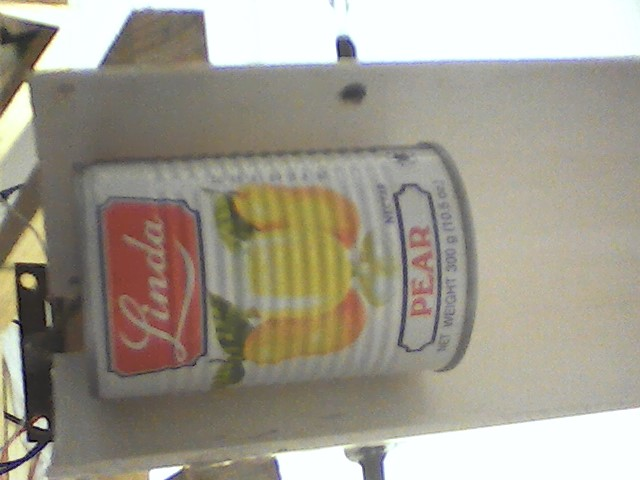lata: (63, 140, 487, 413)
